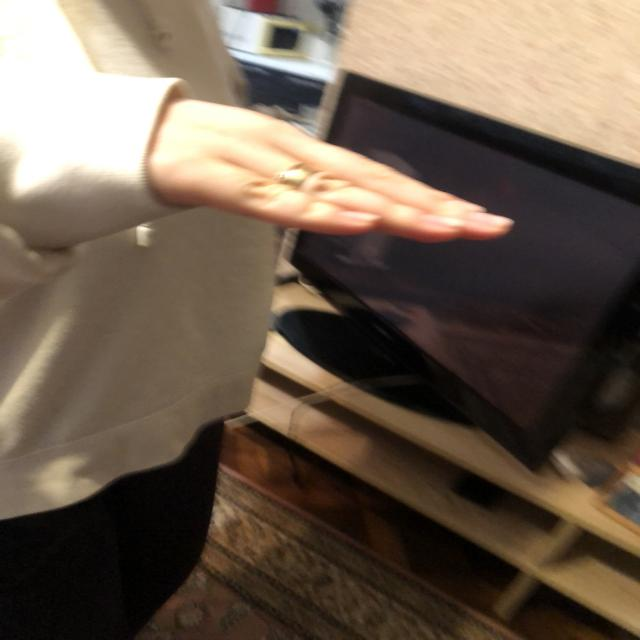paper: (157, 101, 517, 239)
